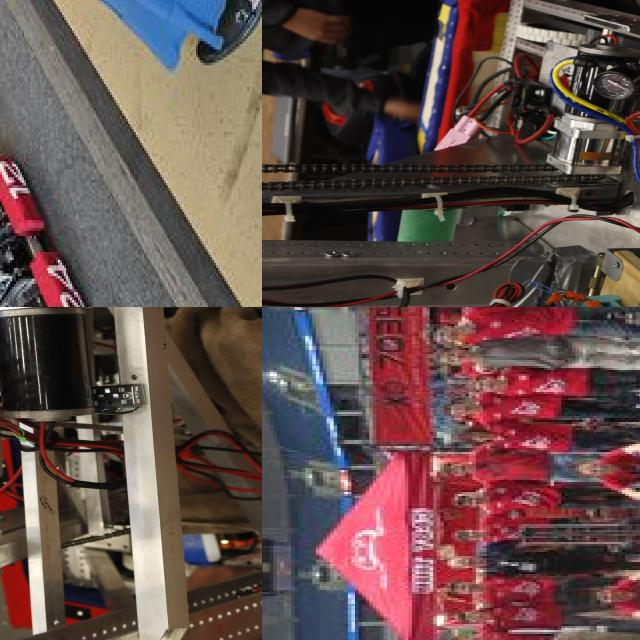FRC-Robots: (262, 0, 640, 307), (0, 307, 254, 640), (0, 119, 122, 307), (509, 473, 640, 577)
